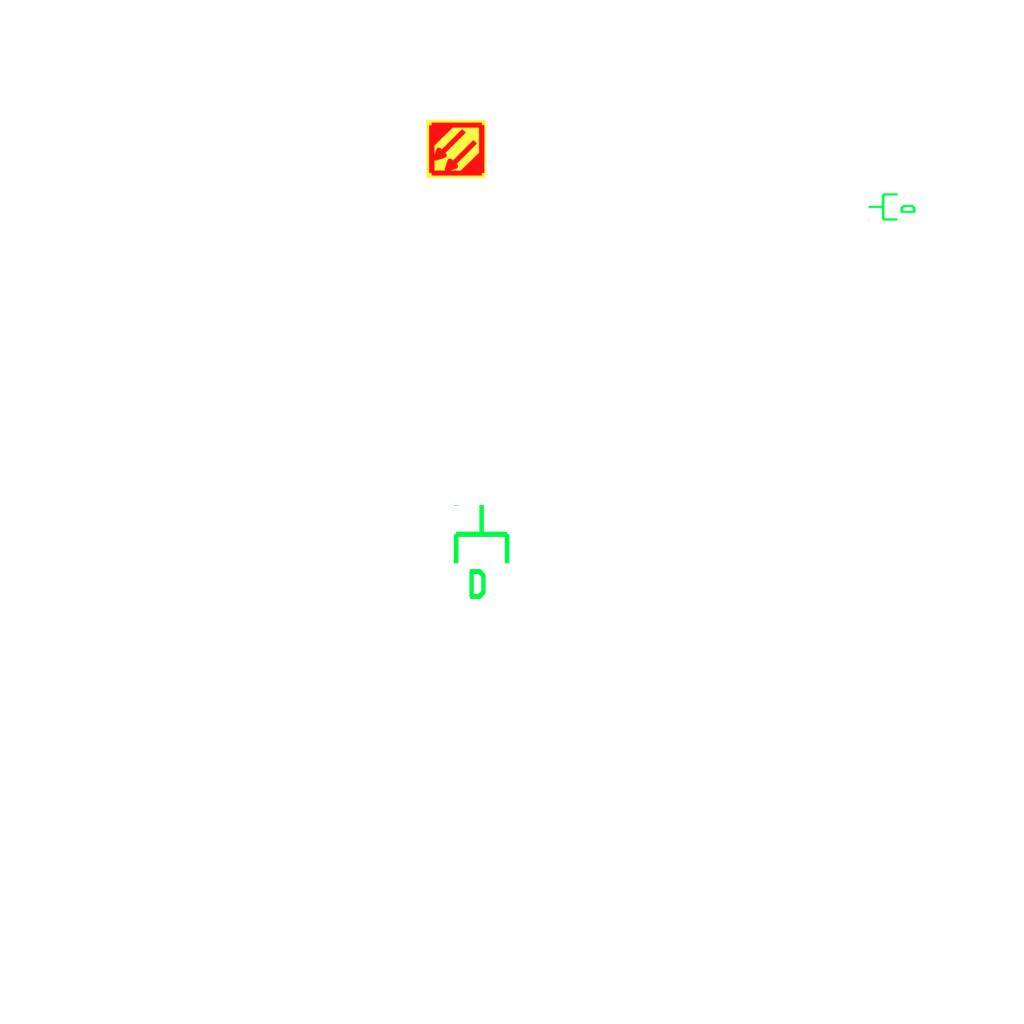ASR_Ansaugrauchmelder: (425, 118, 487, 180)
Datenanschluss_einfach: (449, 502, 518, 602), (867, 189, 917, 223)
